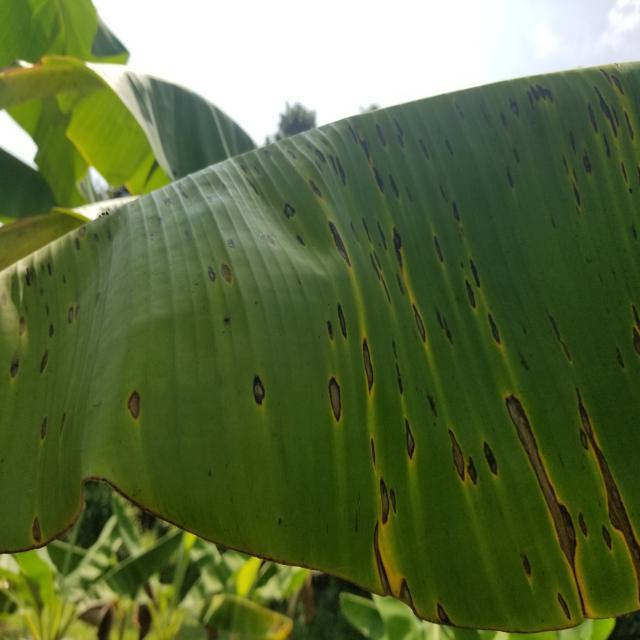Early_rust: (0, 60, 640, 637)
